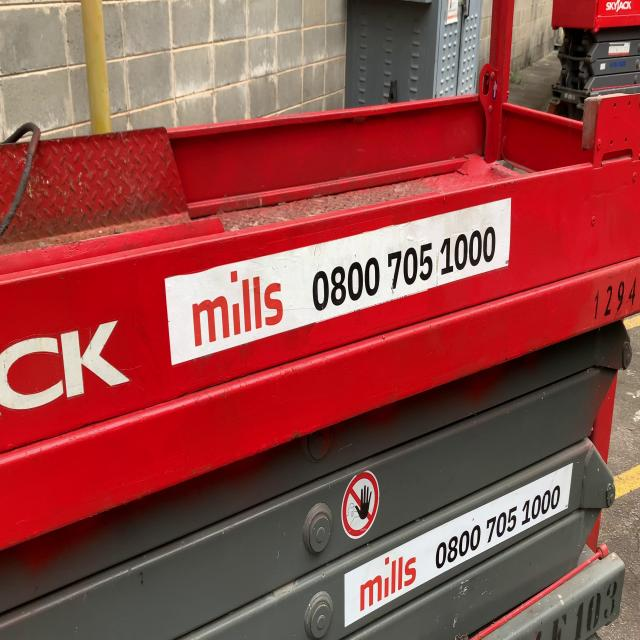Adesivo Longo: (162, 193, 514, 372), (343, 459, 574, 632)
